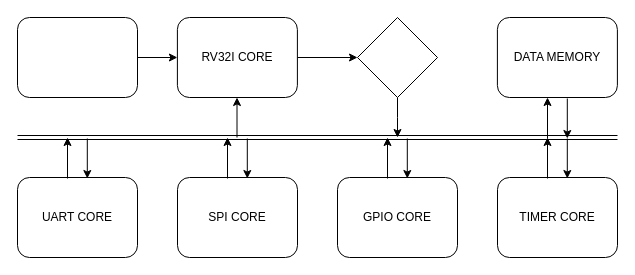
Image size: 635x275. Some labels were removed from this diagram. The shapes that lost their labels are listed below. From the top down, each one's centre as x and y in pixels, then its label:
[77,57]: INSTRUCTION MEMORY
[397,57]: DEVICE SELECT
